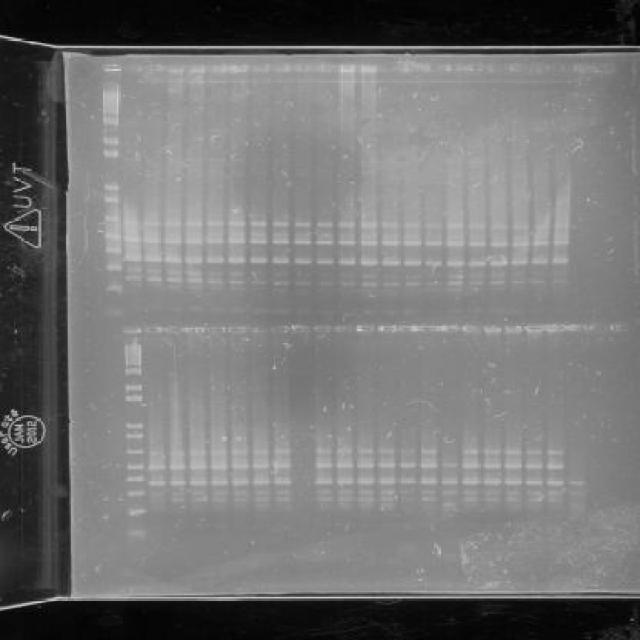B: (123, 253, 143, 262), (144, 254, 162, 264), (358, 258, 378, 267), (488, 259, 510, 267), (379, 258, 401, 266), (270, 256, 292, 264), (444, 240, 466, 248), (290, 278, 312, 286), (147, 479, 167, 487), (272, 478, 292, 486), (252, 478, 272, 486), (231, 478, 251, 486), (314, 478, 334, 486), (418, 477, 438, 485), (546, 478, 566, 486), (524, 478, 544, 486), (503, 478, 523, 486), (482, 478, 502, 486), (460, 478, 480, 486), (524, 462, 544, 470), (503, 462, 523, 470), (210, 463, 230, 471), (230, 463, 250, 471), (209, 478, 229, 486), (546, 489, 566, 497), (504, 489, 524, 497), (230, 489, 250, 497), (482, 489, 502, 497), (204, 256, 224, 264), (227, 256, 247, 264), (550, 257, 570, 265), (530, 258, 550, 266), (468, 260, 488, 268), (446, 260, 466, 268), (423, 259, 443, 267), (402, 259, 422, 267), (248, 256, 268, 264), (489, 240, 509, 248), (467, 240, 487, 248), (402, 239, 422, 247), (358, 239, 378, 247), (488, 223, 508, 231), (467, 222, 487, 230), (380, 220, 400, 228), (402, 220, 422, 228), (144, 275, 164, 283), (248, 279, 268, 287), (314, 280, 334, 288), (486, 278, 506, 286), (168, 479, 187, 487), (189, 479, 208, 487), (398, 477, 417, 485), (188, 450, 207, 458), (525, 489, 544, 497), (252, 488, 271, 496), (568, 489, 587, 497), (184, 257, 203, 265), (509, 258, 528, 266), (338, 258, 357, 266), (315, 258, 334, 266), (142, 237, 161, 245), (315, 238, 334, 246), (205, 230, 224, 238), (336, 477, 354, 485), (357, 477, 375, 485), (378, 477, 396, 485), (440, 478, 458, 486), (168, 463, 186, 471), (462, 448, 480, 456), (314, 488, 332, 496), (357, 488, 375, 496), (210, 489, 228, 497), (190, 489, 208, 497), (378, 488, 396, 496), (148, 490, 166, 498), (315, 495, 333, 503), (164, 256, 182, 264), (294, 258, 312, 266), (337, 238, 355, 246), (360, 222, 378, 230), (360, 272, 378, 280), (466, 279, 484, 287), (272, 278, 290, 286), (184, 269, 202, 277), (144, 268, 162, 276), (418, 462, 438, 469), (271, 238, 291, 245), (336, 488, 353, 496), (124, 236, 141, 244), (126, 273, 143, 281), (165, 268, 182, 276), (480, 462, 502, 468), (230, 497, 252, 503), (378, 462, 396, 469), (440, 501, 458, 508), (164, 238, 182, 245), (184, 238, 202, 245), (567, 480, 587, 486), (546, 464, 566, 470), (460, 462, 480, 468), (398, 462, 418, 468), (334, 462, 354, 468), (188, 464, 208, 470), (251, 463, 271, 469), (398, 448, 418, 454), (313, 448, 333, 454), (208, 450, 228, 456), (460, 490, 480, 496), (504, 497, 524, 503), (546, 498, 566, 504), (210, 497, 230, 503), (510, 242, 530, 248), (380, 240, 400, 246), (270, 222, 290, 228), (248, 221, 268, 227), (510, 224, 530, 230), (423, 223, 443, 229), (444, 223, 464, 229), (444, 280, 464, 286), (248, 232, 268, 238), (273, 463, 292, 469), (252, 448, 271, 454), (483, 450, 502, 456), (273, 490, 292, 496), (418, 490, 437, 496), (525, 497, 544, 503), (252, 496, 271, 502), (273, 496, 292, 502), (293, 240, 312, 246), (249, 238, 268, 244), (205, 238, 224, 244), (185, 222, 204, 228), (293, 222, 312, 228), (227, 221, 246, 227), (205, 221, 224, 227), (532, 224, 551, 230), (509, 280, 528, 286), (338, 281, 357, 287), (552, 223, 571, 229), (315, 232, 334, 238), (293, 232, 312, 238), (148, 464, 166, 470), (440, 462, 458, 468), (315, 462, 333, 468), (357, 462, 375, 468), (420, 448, 438, 454), (377, 448, 395, 454), (336, 448, 354, 454), (440, 490, 458, 496), (462, 497, 480, 503), (357, 496, 375, 502), (378, 496, 396, 502), (420, 496, 438, 502), (482, 496, 500, 502), (336, 496, 354, 502), (168, 498, 186, 504), (190, 497, 208, 503), (552, 240, 570, 246), (532, 241, 550, 247), (424, 240, 442, 246), (228, 238, 246, 244), (337, 222, 355, 228), (122, 220, 140, 226), (142, 221, 160, 227), (360, 281, 378, 287), (530, 278, 548, 284), (424, 280, 442, 286), (446, 273, 464, 279), (272, 232, 290, 238), (228, 231, 246, 237), (164, 222, 181, 228), (316, 222, 333, 228), (404, 282, 421, 288), (165, 277, 182, 283), (185, 277, 202, 283), (207, 278, 224, 284), (227, 278, 244, 284), (550, 278, 567, 284), (228, 271, 245, 277), (207, 271, 224, 277), (126, 267, 143, 273), (524, 450, 544, 455), (230, 450, 250, 455), (383, 282, 399, 288), (272, 449, 291, 454), (546, 450, 565, 455), (503, 450, 522, 455), (356, 449, 374, 454), (170, 491, 184, 497), (168, 452, 186, 456)
L: (114, 318, 636, 338), (96, 60, 619, 77)
M: (118, 320, 147, 552), (98, 62, 125, 300)
P: (100, 115, 120, 128), (100, 136, 120, 146), (102, 148, 120, 158), (124, 530, 146, 538), (105, 263, 124, 272), (126, 508, 146, 516), (126, 463, 145, 471), (125, 394, 144, 402), (125, 384, 144, 392), (103, 246, 122, 254), (102, 232, 121, 240), (124, 368, 142, 376), (124, 360, 142, 368), (104, 284, 122, 292), (102, 195, 120, 203), (102, 183, 120, 191), (102, 108, 120, 116), (103, 214, 120, 222), (125, 422, 144, 429), (128, 489, 144, 497), (125, 476, 144, 482), (125, 448, 144, 454), (125, 432, 144, 438)
Pc: (119, 324, 144, 336), (592, 63, 616, 74), (440, 322, 462, 333), (442, 62, 464, 73), (101, 62, 122, 73), (269, 324, 291, 334), (356, 323, 376, 334), (229, 63, 249, 74), (252, 62, 272, 73), (294, 62, 314, 73), (487, 63, 507, 74), (424, 62, 444, 73), (273, 62, 292, 73), (523, 324, 546, 333), (313, 324, 333, 334), (334, 324, 354, 334), (380, 64, 400, 74), (460, 324, 482, 333), (290, 324, 312, 333), (528, 64, 550, 73), (402, 63, 420, 74), (570, 63, 592, 72), (503, 323, 523, 332), (123, 63, 143, 72), (550, 64, 570, 73), (208, 64, 228, 73), (508, 64, 528, 73), (466, 64, 486, 73), (143, 327, 165, 335), (609, 323, 631, 331), (418, 325, 440, 333), (396, 325, 418, 333), (376, 324, 398, 332), (167, 64, 186, 73), (316, 63, 335, 72), (188, 64, 206, 73), (338, 63, 356, 72), (360, 64, 378, 73), (186, 326, 206, 334), (207, 326, 227, 334), (228, 326, 248, 334), (249, 326, 269, 334), (588, 324, 608, 332), (567, 324, 587, 332), (546, 324, 566, 332), (483, 325, 503, 333), (166, 327, 185, 335), (147, 64, 164, 72)
